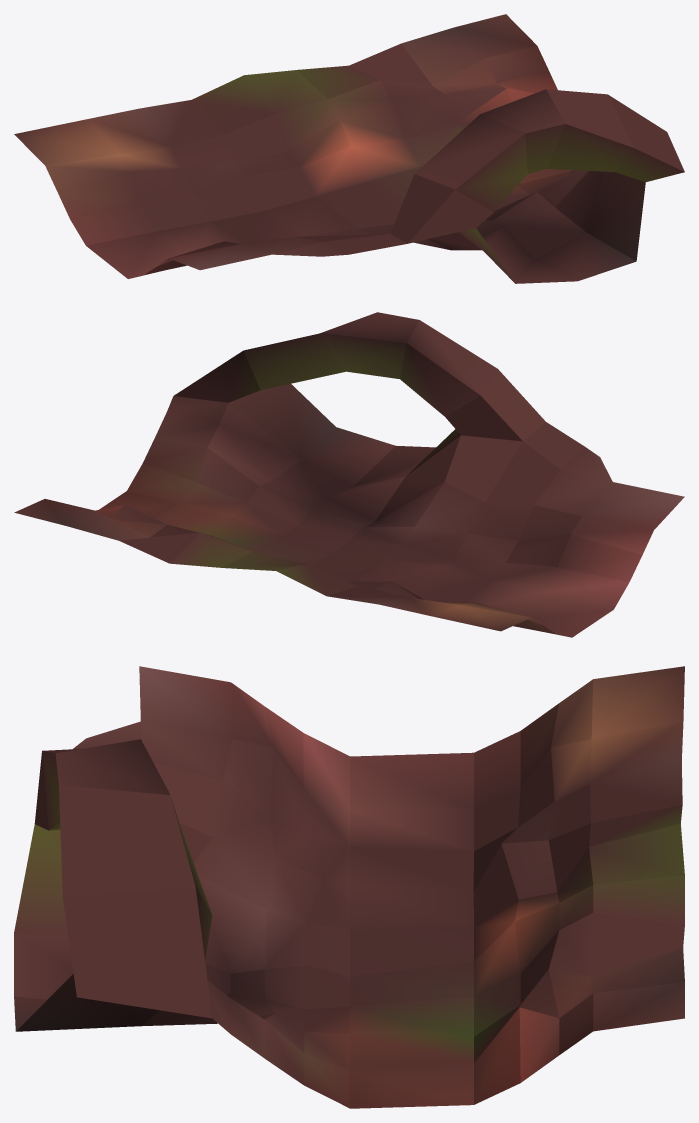
File: terrainTurn.fbx
3 renders of one model, top to bottom at view 1: azimuth 30°, elevation 25°; view 2: azimuth 150°, elevation 25°; view 3: azimuth 270°, elevation 25°, orthographic. The views are drawn at different scales.
Parts seen in each view (by area): view 1: Plane; view 2: Plane; view 3: Plane.
Boxes of the visible parts, bbox=[...] form: Plane: bbox=[14, 14, 684, 283]; Plane: bbox=[14, 312, 684, 637]; Plane: bbox=[14, 666, 684, 1108].
Size of the model in its own units: 1348 by 422 by 1085.
